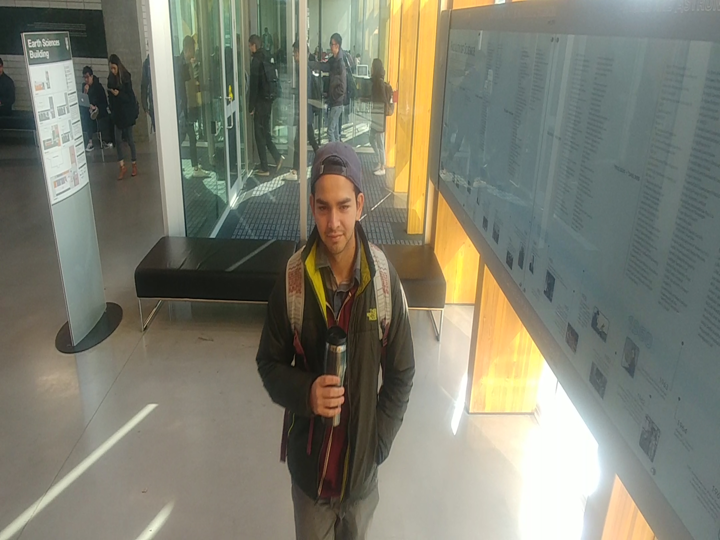face: (300, 130, 373, 262), (366, 52, 391, 85), (325, 30, 349, 61), (77, 59, 100, 90), (243, 31, 267, 60), (103, 52, 125, 76)
human: (250, 133, 424, 540), (243, 31, 290, 182), (104, 49, 144, 185), (314, 26, 358, 147), (361, 53, 399, 178), (74, 60, 115, 154)
